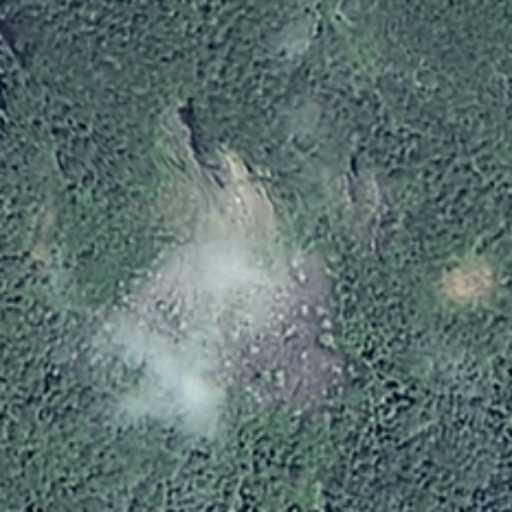landslide: (103, 134, 340, 410)
